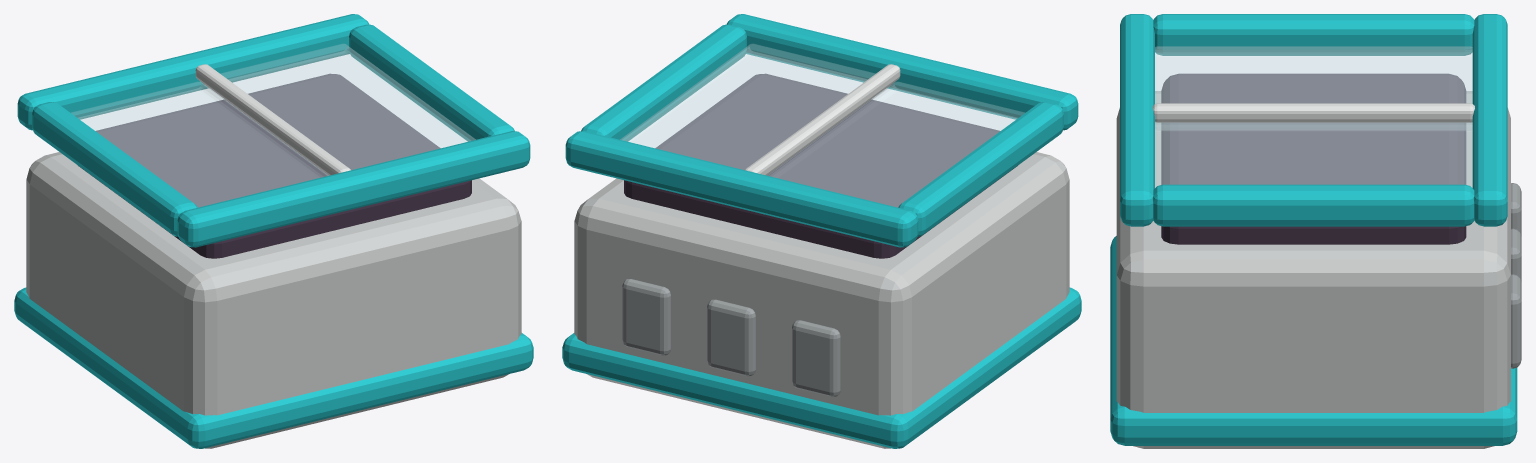
File: IngredientCrate.fbx
3 renders of one model, left to right at view 1: azimuth 30°, elevation 25°; view 2: azimuth 150°, elevation 25°; view 3: azimuth 270°, elevation 25°, orthographic. The views are drawn at different scales.
Parts seen in each view (by area): view 1: MAT_Steel Geometry.001, MAT_Teal Geometry.001, MAT_Glass Geometry, MAT_DeepInset Geometry, MAT_SteelLight Geometry.002; view 2: MAT_Steel Geometry.001, MAT_Teal Geometry.001, MAT_Glass Geometry, MAT_DeepInset Geometry, MAT_SteelDark Geometry.001, MAT_SteelLight Geometry.002; view 3: MAT_Steel Geometry.001, MAT_Teal Geometry.001, MAT_Glass Geometry, MAT_DeepInset Geometry, MAT_SteelLight Geometry.002, MAT_SteelDark Geometry.001.
Part boxes in pixels (x1,y1,x2,y2): MAT_Steel Geometry.001: (26,152,521,448); MAT_Teal Geometry.001: (14,14,533,448); MAT_Glass Geometry: (71,44,475,207); MAT_DeepInset Geometry: (78,73,471,258); MAT_SteelLight Geometry.002: (195,64,350,175); MAT_Steel Geometry.001: (574,152,1069,448); MAT_Teal Geometry.001: (562,14,1081,448); MAT_Glass Geometry: (620,44,1024,207); MAT_DeepInset Geometry: (624,73,1017,258); MAT_SteelDark Geometry.001: (622,279,840,396); MAT_SteelLight Geometry.002: (745,64,900,175); MAT_Steel Geometry.001: (1116,91,1510,448); MAT_Teal Geometry.001: (1110,14,1517,445); MAT_Glass Geometry: (1155,46,1472,187); MAT_DeepInset Geometry: (1161,73,1466,244); MAT_SteelLight Geometry.002: (1152,103,1474,122); MAT_SteelDark Geometry.001: (1511,183,1521,368).
Bounding box in the file's own units: 138 × 92 × 129.
